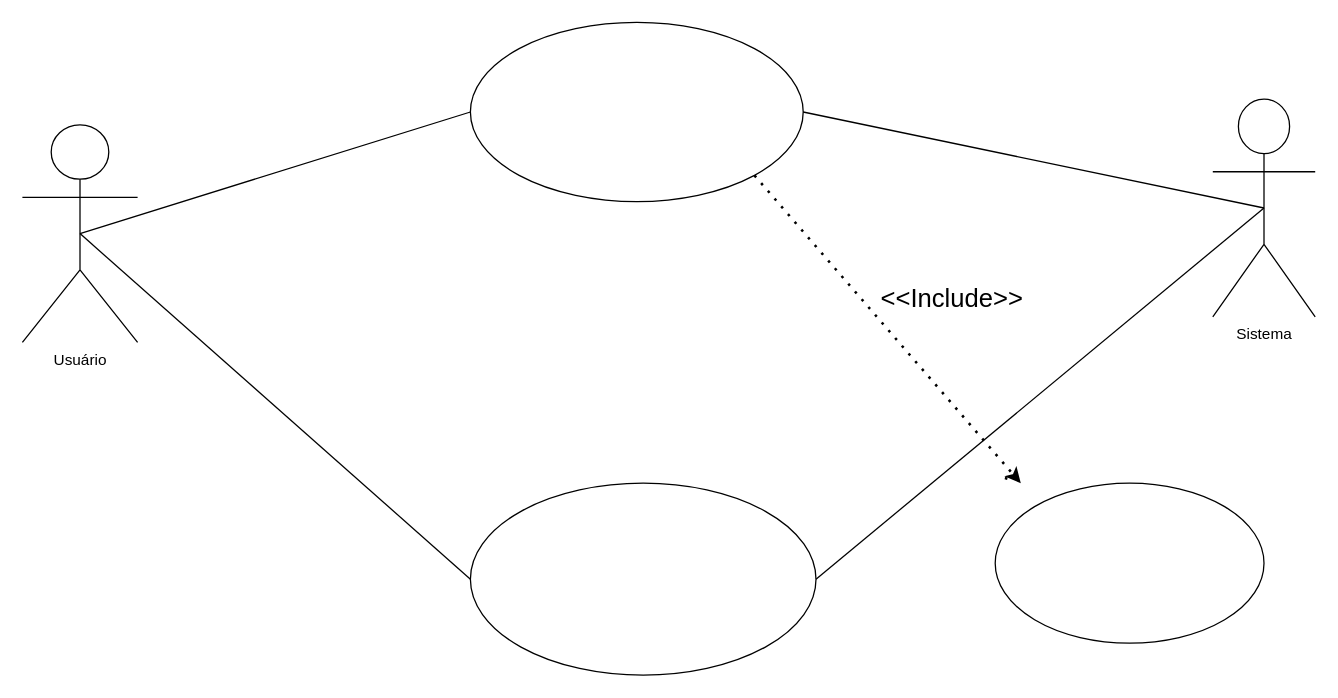
The diagram is 1338 pixels wide and 698 high, and some of its shapes have lost their labels. The box of each missing label's shape, as (x1, y1, x2, y2) in pixels:
PESQUISAR VOOS: (469, 21, 803, 202)
RESERVAR VOO: (469, 482, 816, 675)
